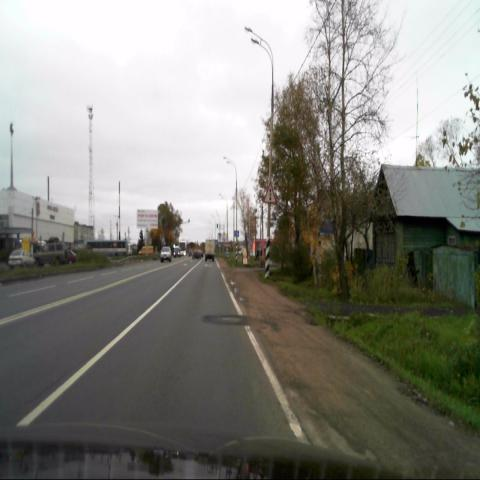1_8: (264, 181, 276, 204)
